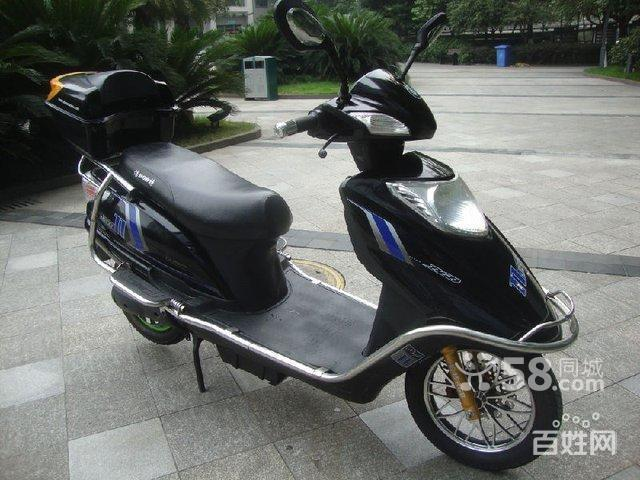电动车: (30, 1, 600, 470)
